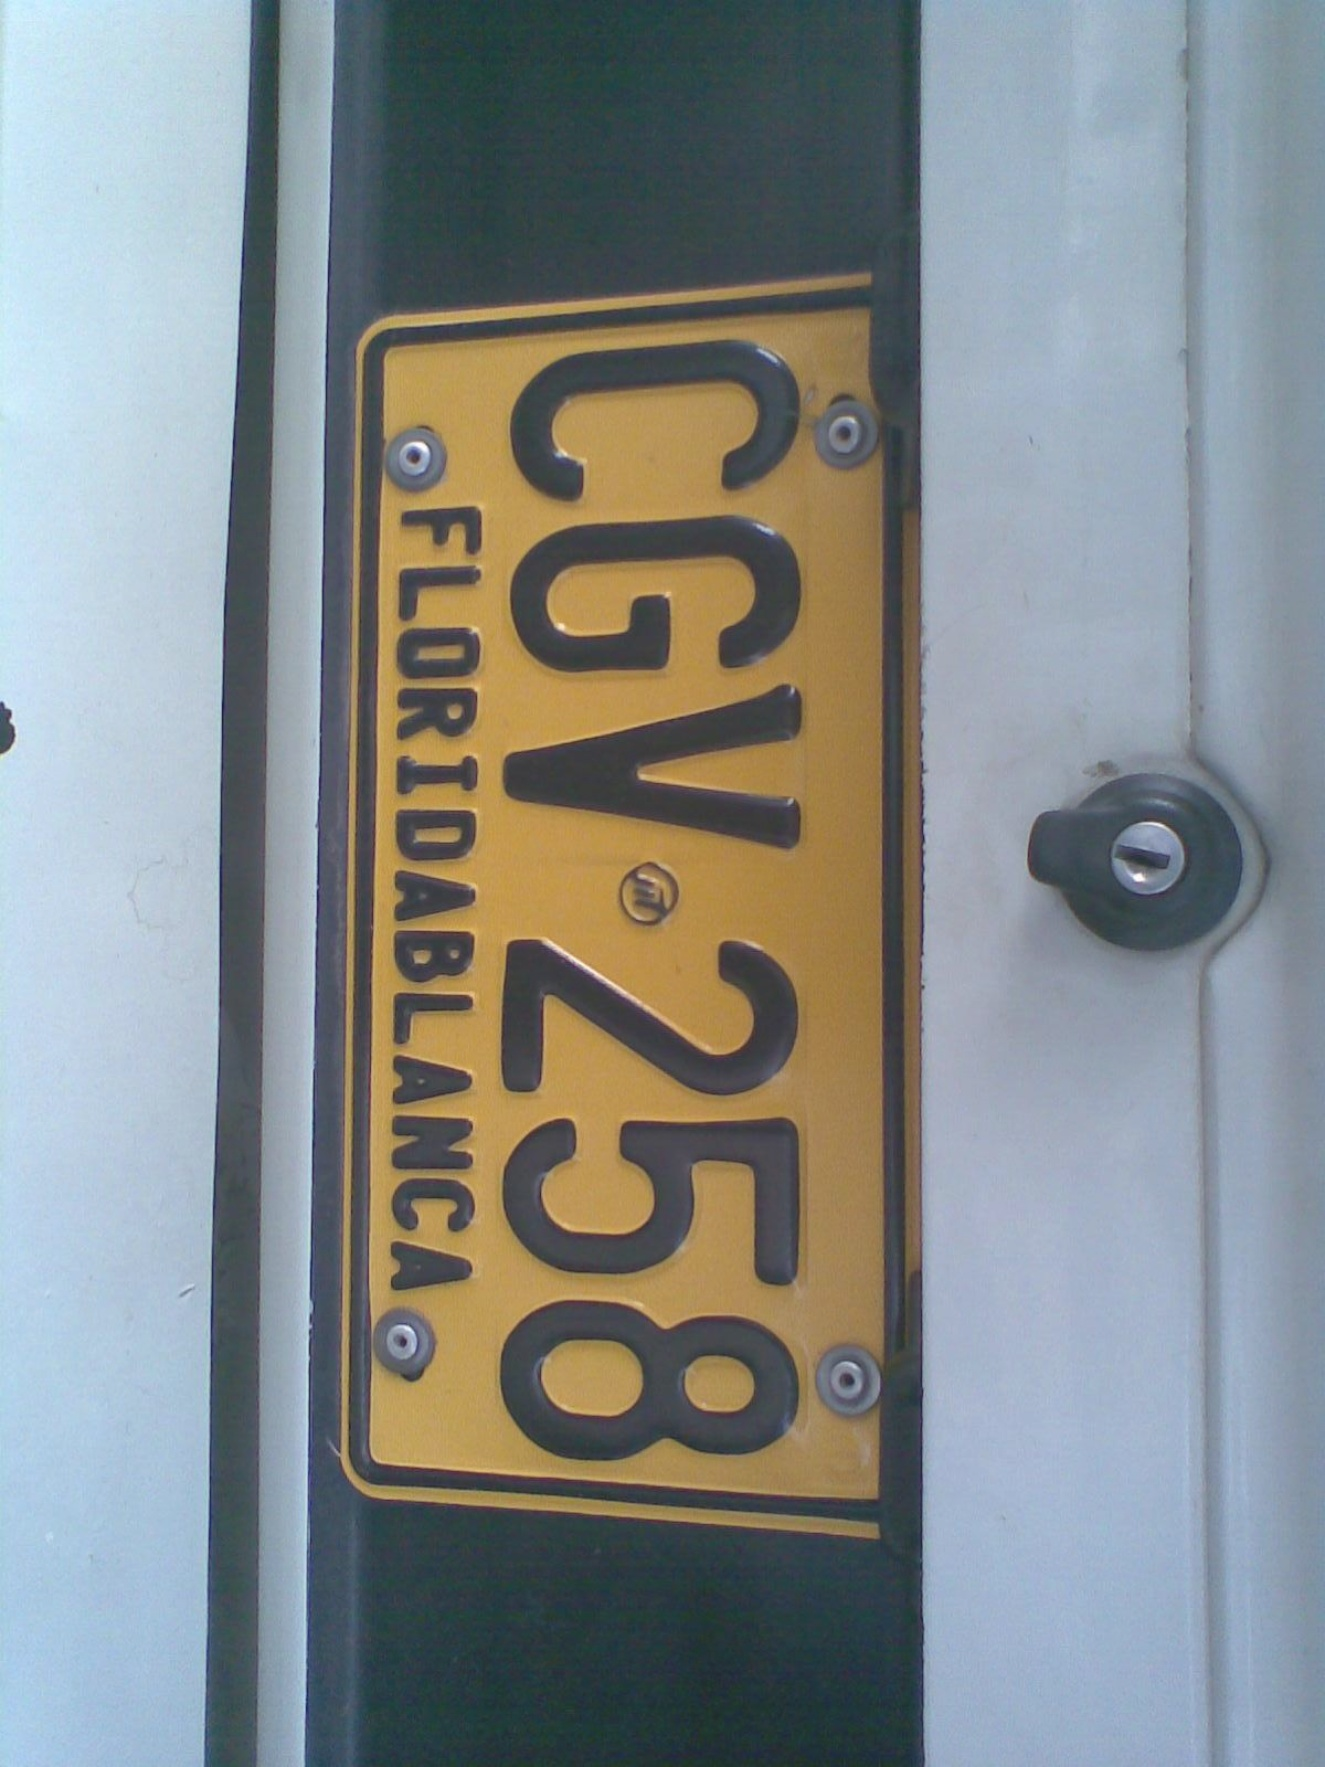placas: (319, 257, 947, 1564)
